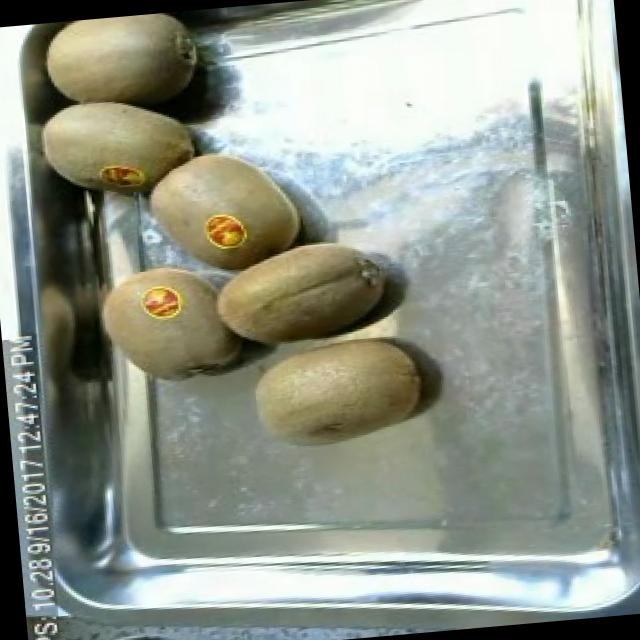Fruit: (198, 224, 400, 364), (237, 317, 432, 459), (130, 131, 312, 265), (22, 8, 216, 112), (22, 94, 206, 201)
